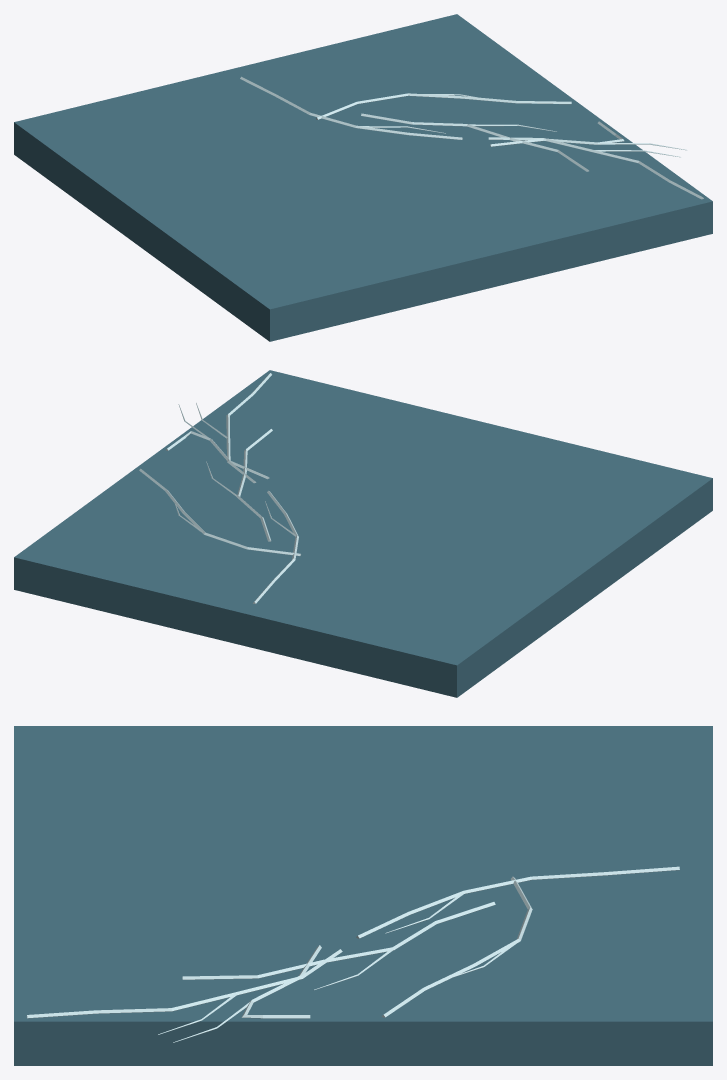
The model's file is ICE_07_HeavyCrackedIceTile.glb.
The picture shows the model from 3 angles, top to bottom: view 1: azimuth 30°, elevation 25°; view 2: azimuth 150°, elevation 25°; view 3: azimuth 270°, elevation 25°; orthographic projection. The views are drawn at different scales.
Visible parts, largest first — view 1: ICE_07_HeavyCrackedIceTile; view 2: ICE_07_HeavyCrackedIceTile; view 3: ICE_07_HeavyCrackedIceTile.
Part boxes in pixels (x1=…): ICE_07_HeavyCrackedIceTile: x1=14, y1=14, x2=712, y2=341; ICE_07_HeavyCrackedIceTile: x1=14, y1=370, x2=712, y2=697; ICE_07_HeavyCrackedIceTile: x1=14, y1=726, x2=712, y2=1065.
Size of the model in its own units: 4.3 by 0.298 by 4.
